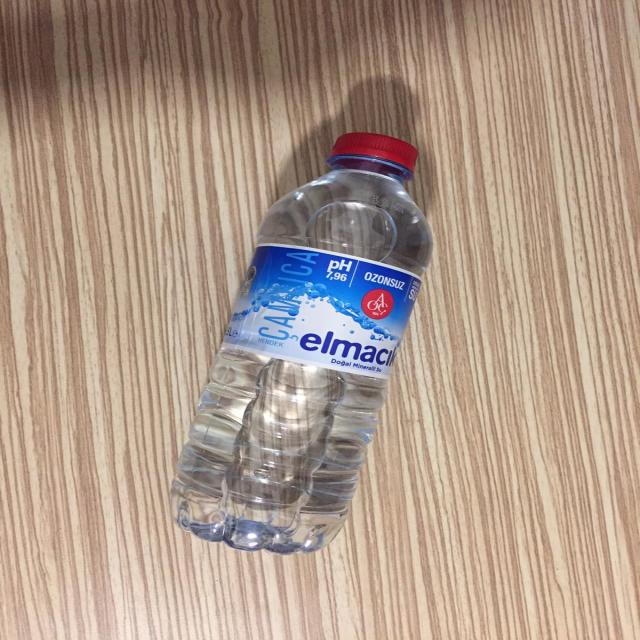bottle: (169, 130, 426, 552)
